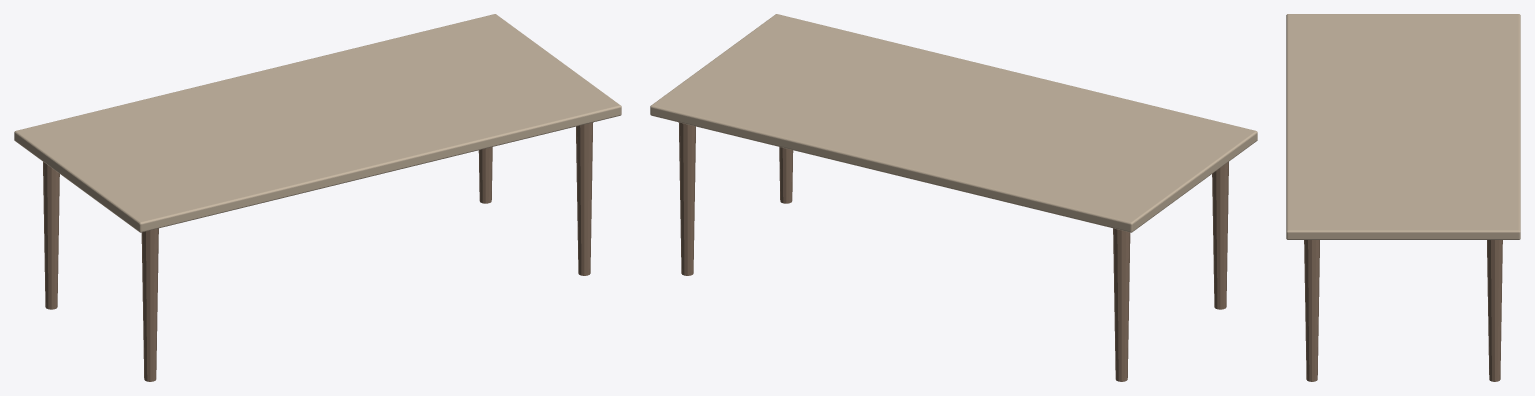
File: dining_table.glb
3 views of the same model, side by side, from view 1: azimuth 30°, elevation 25°; view 2: azimuth 150°, elevation 25°; view 3: azimuth 270°, elevation 25° (orthographic). The views are drawn at different scales.
Parts seen in each view (by area): view 1: dining_table_0, dining_table_1; view 2: dining_table_0, dining_table_1; view 3: dining_table_0, dining_table_1.
Part boxes in pixels (bbox=[...]): dining_table_0: bbox=[14, 14, 621, 232]; dining_table_1: bbox=[43, 122, 593, 381]; dining_table_0: bbox=[650, 14, 1257, 232]; dining_table_1: bbox=[678, 122, 1228, 381]; dining_table_0: bbox=[1286, 14, 1520, 239]; dining_table_1: bbox=[1304, 240, 1502, 381].
Bounding box in the file's own units: 2.2 × 0.7499 × 0.9999.
